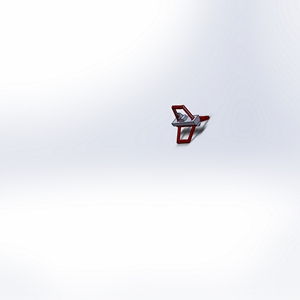submarine: (161, 90, 227, 169)
